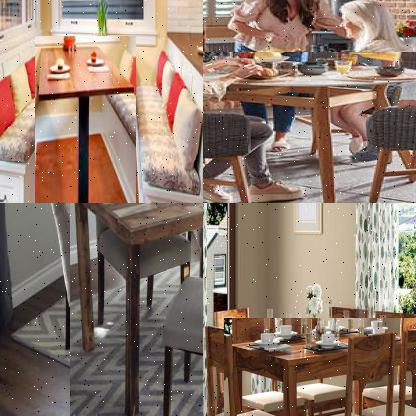table: (203, 52, 415, 202), (70, 203, 202, 415), (224, 318, 415, 415), (35, 36, 138, 202)
